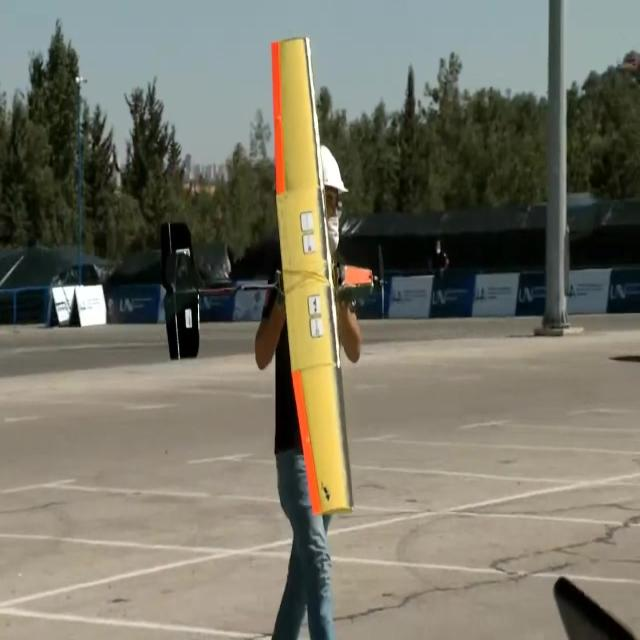iha: (158, 32, 392, 519)
